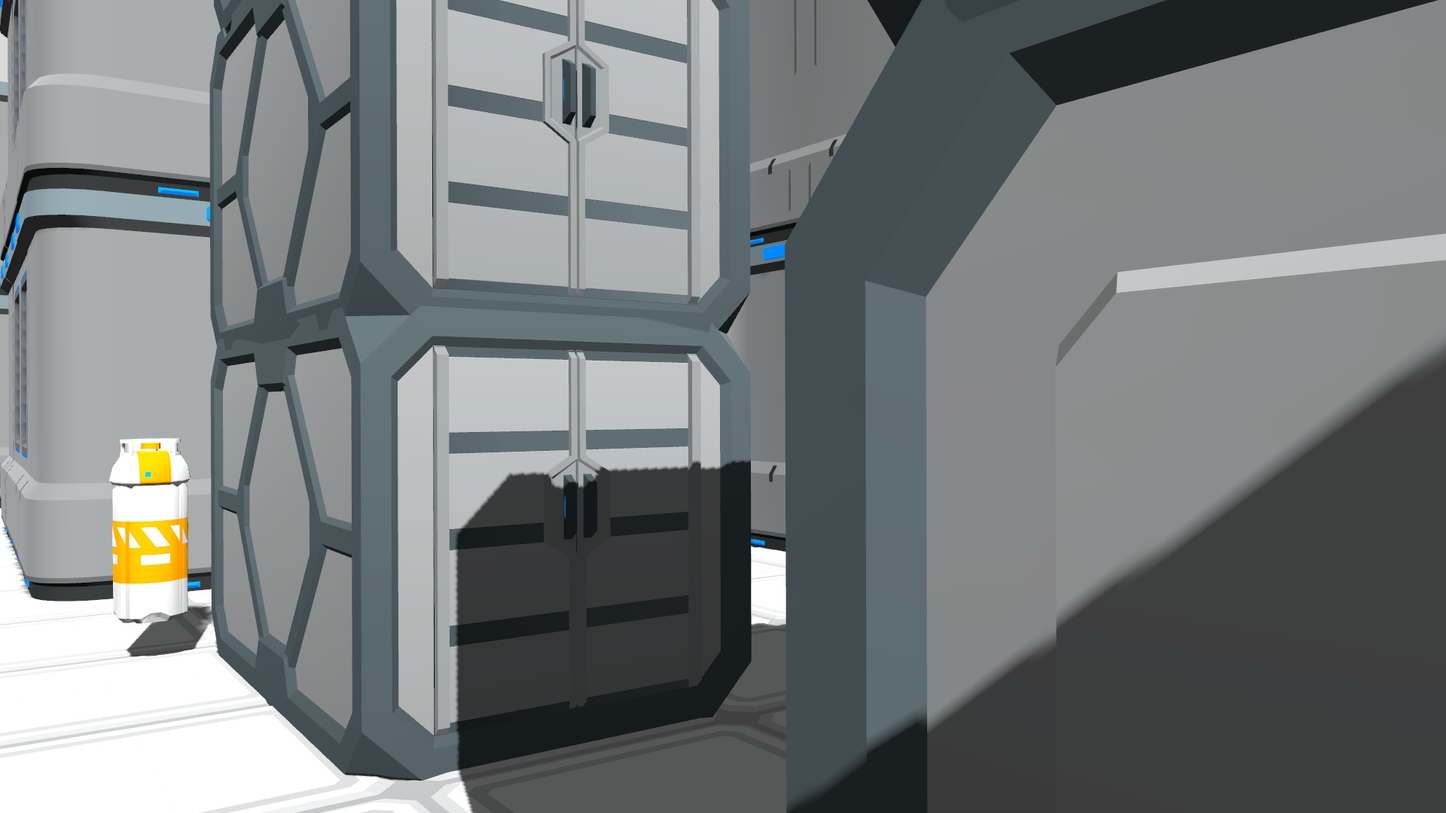yellow_barrel: (103, 431, 204, 631)
